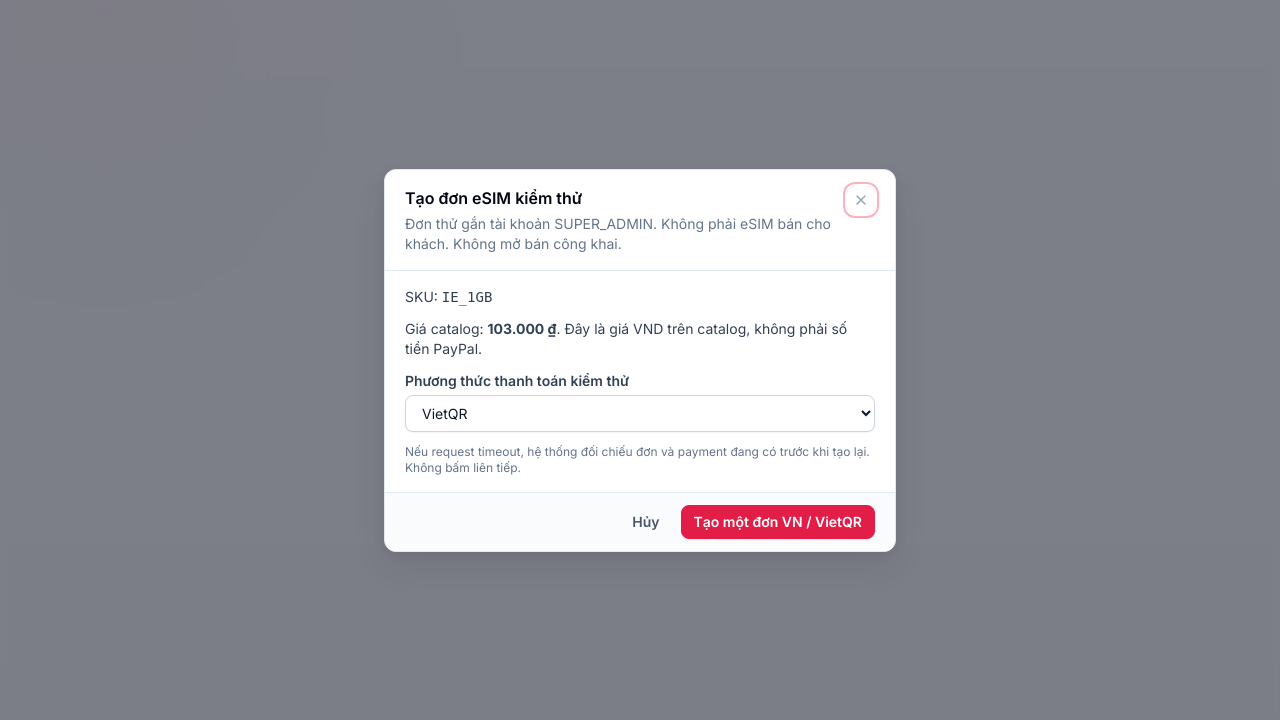
it: AdminTestOrderDialog › sends the PayPal payload with the default 1.00 USD charge and the returned approval URL
This screenshot has width=1280, height=720.
Select "PayPal Sandbox" in the dropdown labelled "Phương thức thanh toán kiểm thử" at (640, 413), box [405,394,875,432]
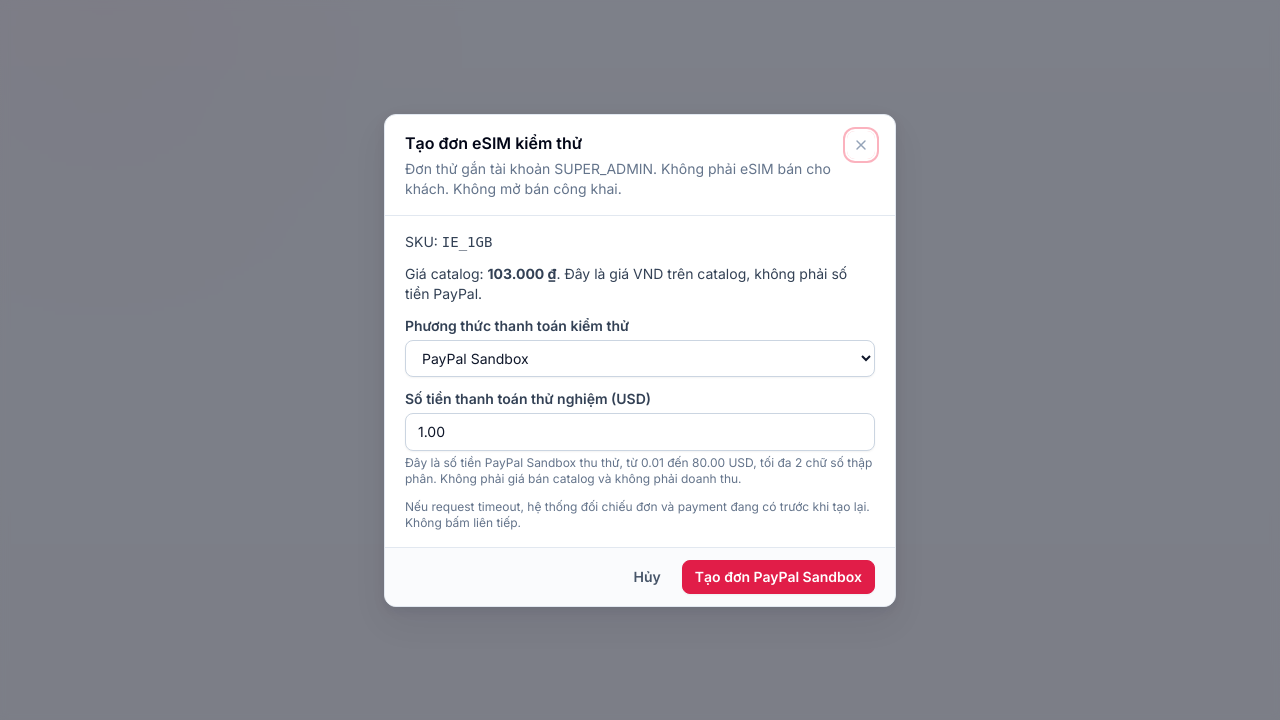
Expected: the field labelled "Số tiền thanh toán thử nghiệm (USD)" holds "1.00", [405,412,875,450]
Click the button "Tạo đơn PayPal Sandbox" at (778, 576), box [682,560,875,594]
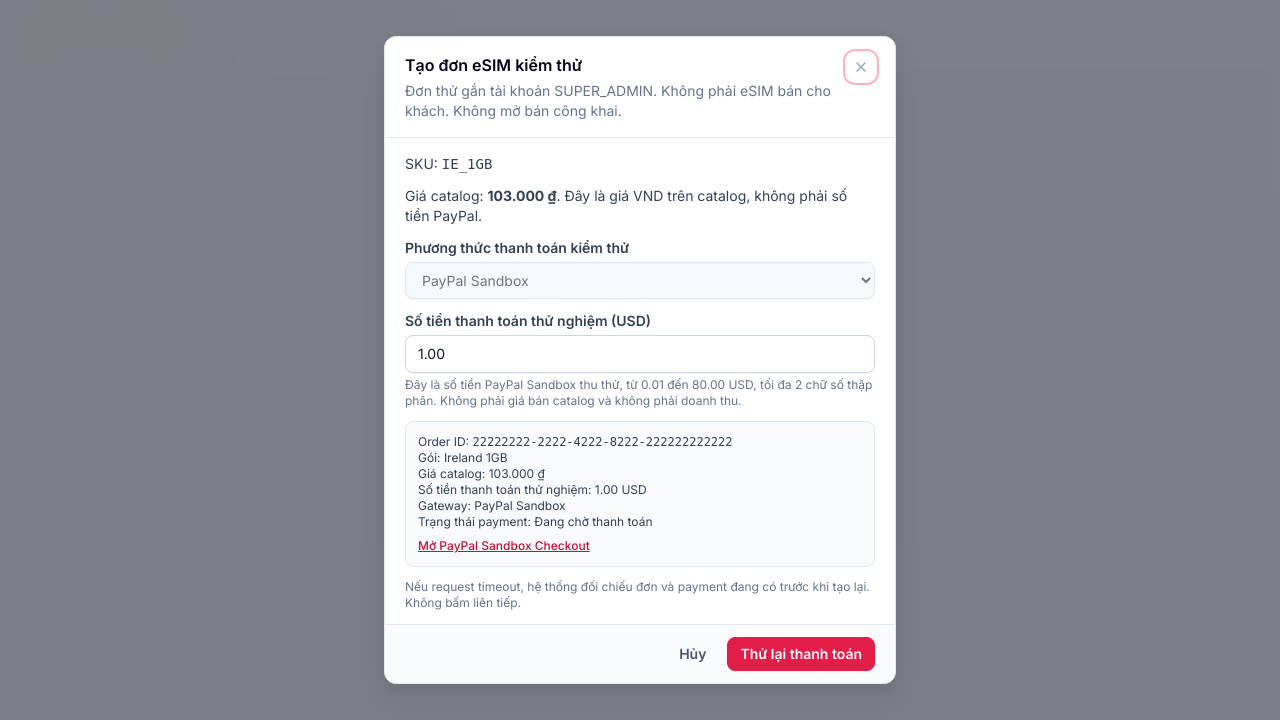
Expected: the text "không phải doanh thu" is shown, [405,377,872,408]
Expected: the text "Số tiền thanh toán thử nghiệm: 1.00 USD" is shown, [418,482,647,497]
